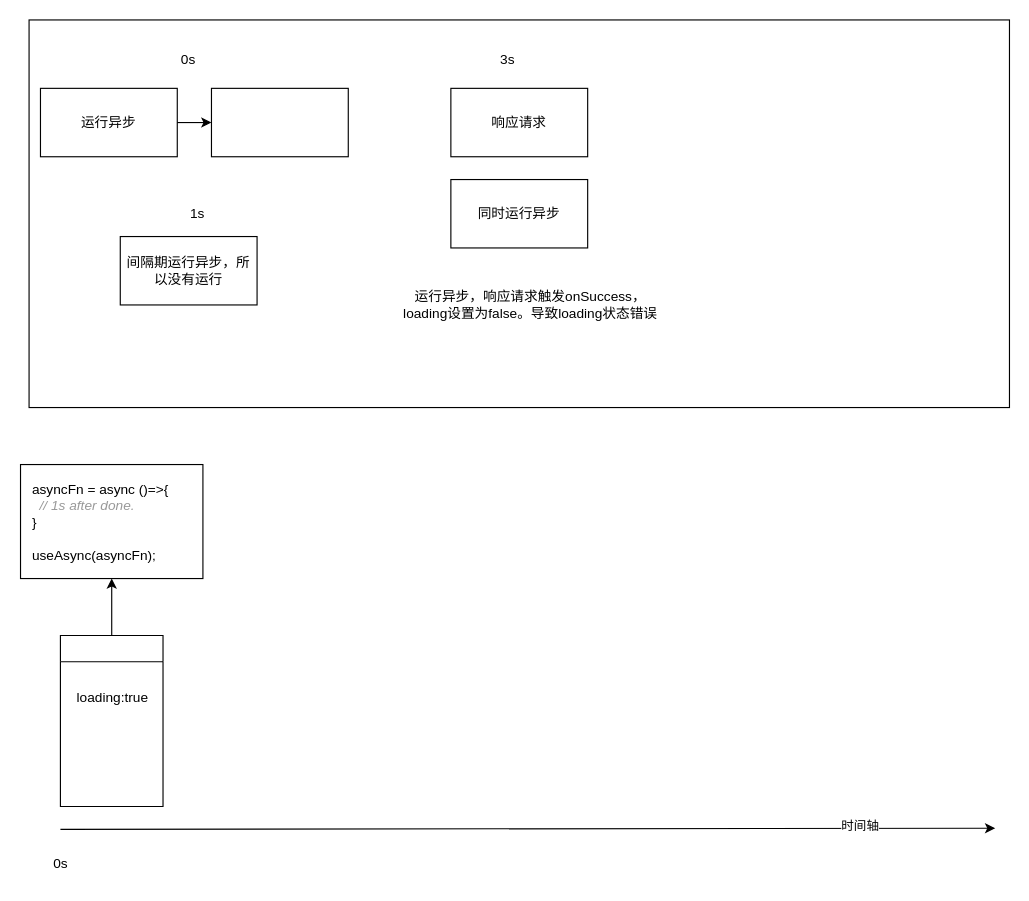
The diagram is 1029 pixels wide and 901 high, and some of its shapes have lost their labels. The box of each missing label's shape, as (x1, y1, x2, y2) in pixels:
run(): (59, 634, 163, 807)
发起请求: (210, 87, 348, 157)
